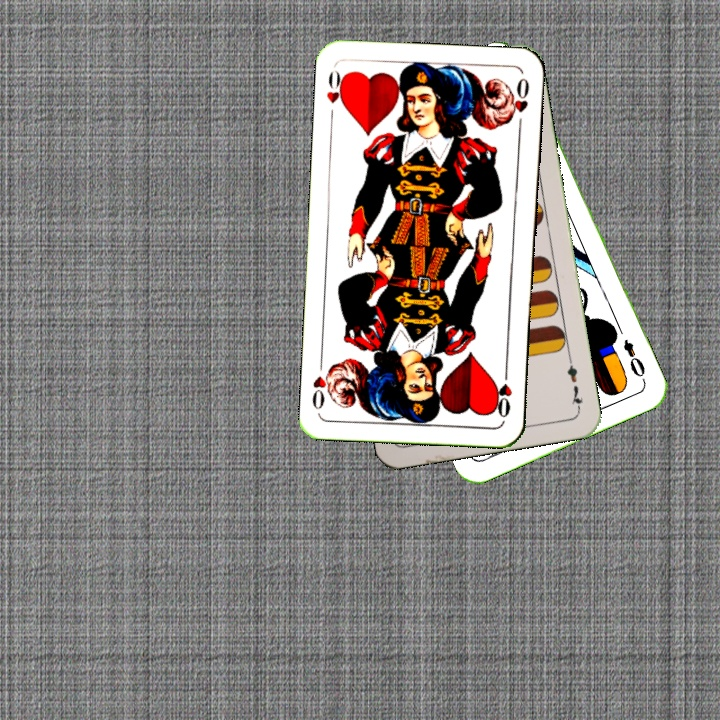E7: (563, 354, 586, 412)
EO: (619, 335, 648, 385)
HO: (322, 65, 349, 123), (492, 362, 514, 421)
